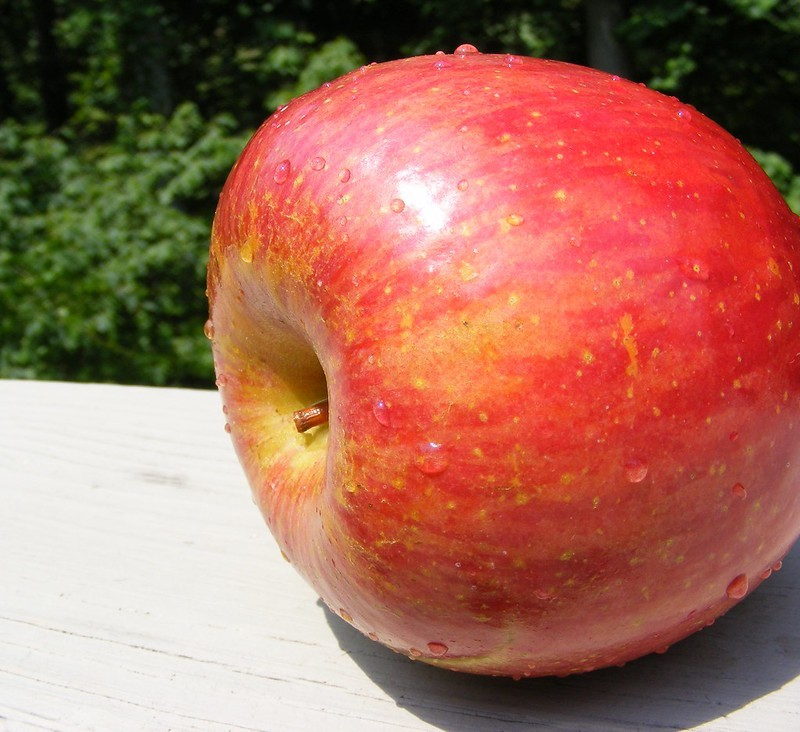apple: (201, 48, 800, 684)
